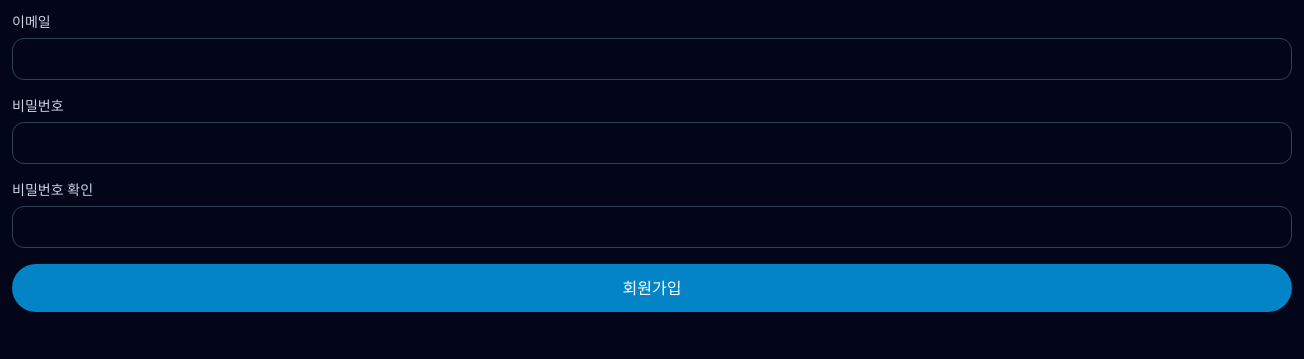
Test: SignupForm › shows a mismatch error when passwords differ
Type "user@example.com" into the field labelled "이메일".
click(652, 59); type("user@example.com")  # box x1=12 y1=38 x2=1292 y2=80
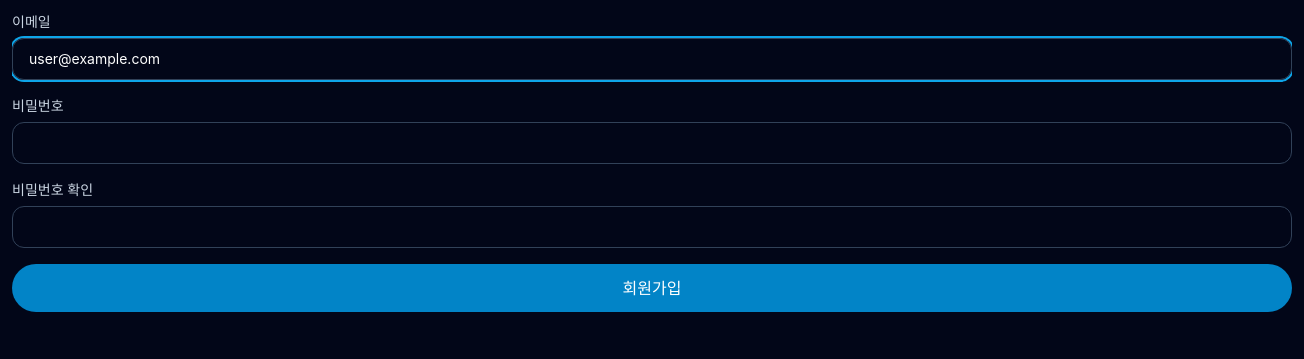
Type "password1" into the password field labelled "비밀번호".
click(652, 143); type("password1")  # box x1=12 y1=122 x2=1292 y2=164
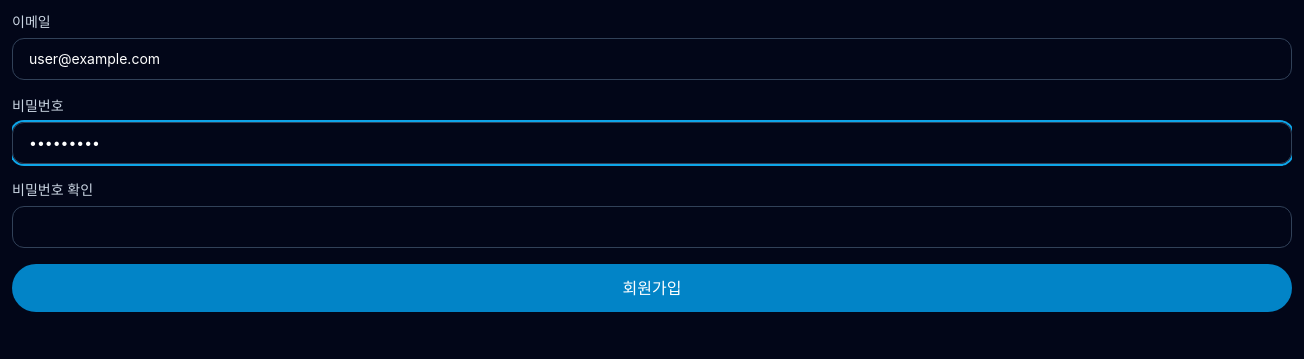
Type "password2" into the password field labelled "비밀번호 확인".
click(652, 227); type("password2")  # box x1=12 y1=206 x2=1292 y2=248
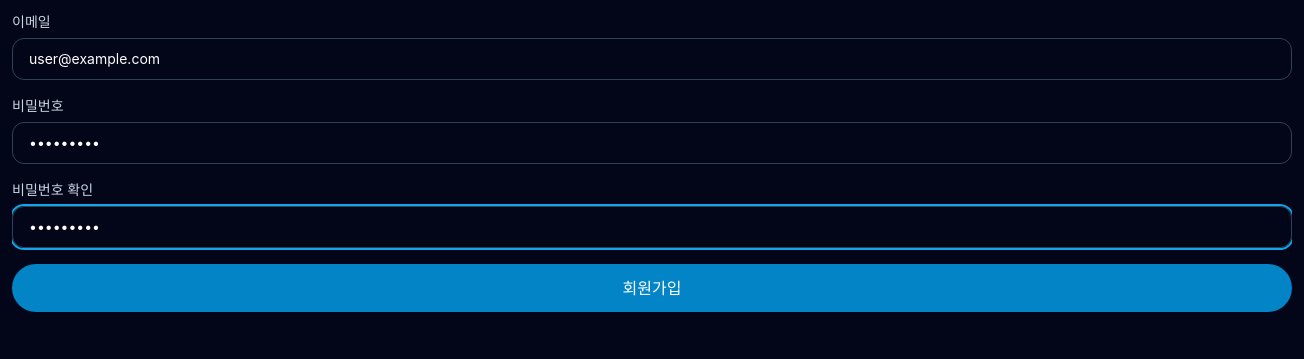
Click the button "회원가입".
click(652, 288)  # box x1=12 y1=264 x2=1292 y2=312
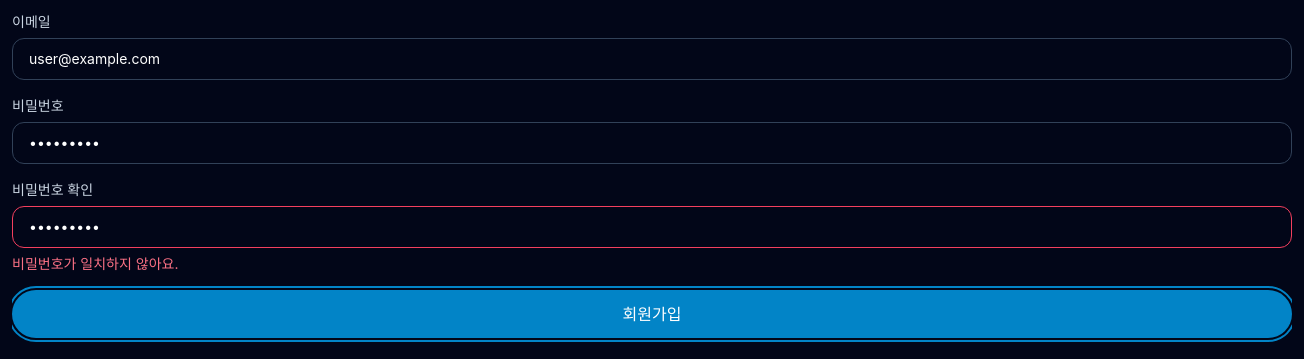
Result: the text "비밀번호가 일치하지 않아요." is shown at x1=12 y1=255 x2=178 y2=272
